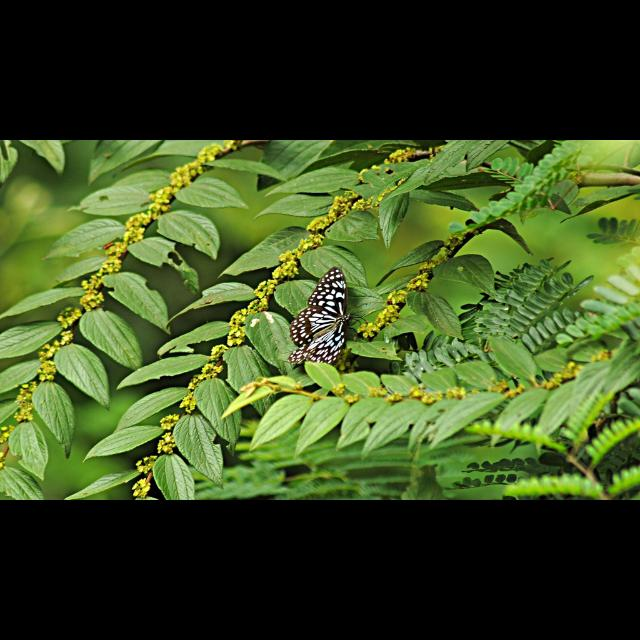Flower: (130, 140, 428, 498), (0, 140, 260, 470)
